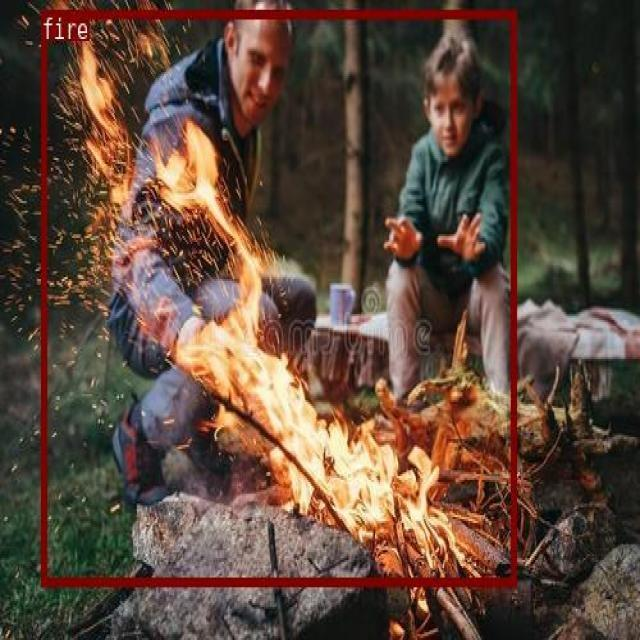fire: (40, 9, 515, 585)
